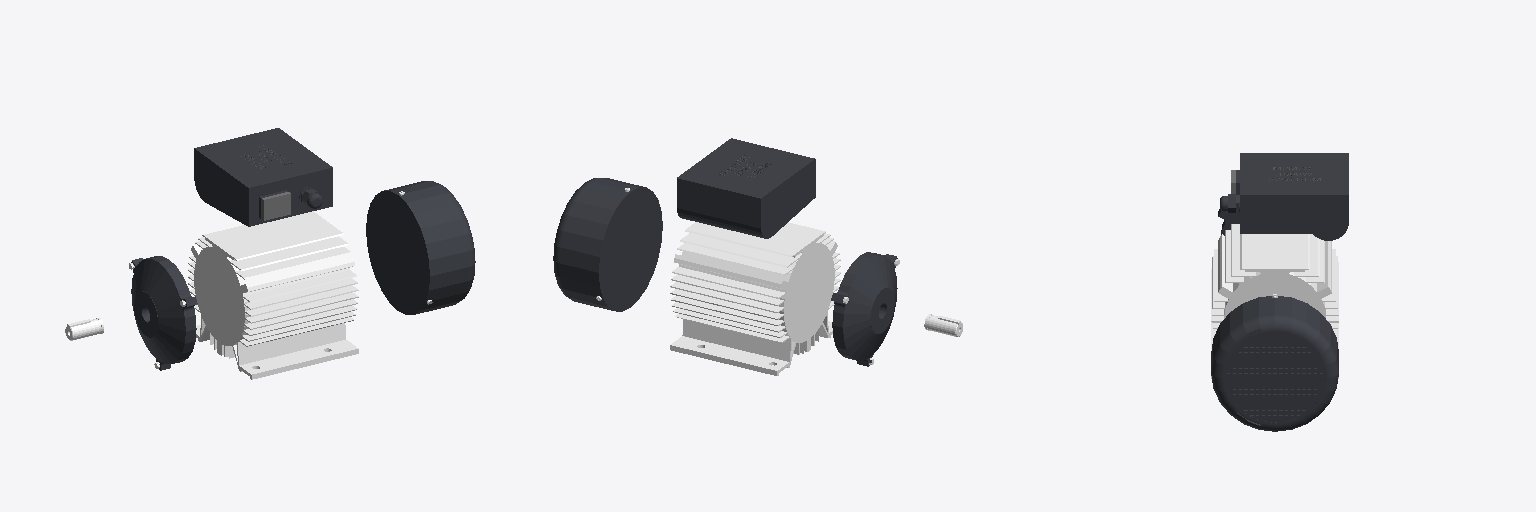
File: asenkronsplit.obj
The picture shows the model from 3 angles: view 1: azimuth 30°, elevation 25°; view 2: azimuth 150°, elevation 25°; view 3: azimuth 270°, elevation 25°; orthographic projection.
Parts seen in each view (by area): view 1: Mesh67 Mesh6 generatorsplit_obj Model, Mesh23 Mesh2 generatorsplit_obj Model, Mesh78 Mesh7 generatorsplit_obj Model, Mesh56 Mesh5 generatorsplit_obj Model, Mesh89 Mesh8 generatorsplit_obj Model; view 2: Mesh67 Mesh6 generatorsplit_obj Model, Mesh23 Mesh2 generatorsplit_obj Model, Mesh78 Mesh7 generatorsplit_obj Model, Mesh56 Mesh5 generatorsplit_obj Model, Mesh89 Mesh8 generatorsplit_obj Model; view 3: Mesh23 Mesh2 generatorsplit_obj Model, Mesh78 Mesh7 generatorsplit_obj Model, Mesh67 Mesh6 generatorsplit_obj Model.
Part boxes in pixels (bbox=[...]): Mesh67 Mesh6 generatorsplit_obj Model: bbox=[188, 211, 358, 379]; Mesh23 Mesh2 generatorsplit_obj Model: bbox=[366, 181, 475, 314]; Mesh78 Mesh7 generatorsplit_obj Model: bbox=[194, 128, 332, 226]; Mesh56 Mesh5 generatorsplit_obj Model: bbox=[129, 256, 197, 370]; Mesh89 Mesh8 generatorsplit_obj Model: bbox=[65, 318, 103, 340]; Mesh67 Mesh6 generatorsplit_obj Model: bbox=[670, 222, 840, 375]; Mesh23 Mesh2 generatorsplit_obj Model: bbox=[553, 178, 662, 311]; Mesh78 Mesh7 generatorsplit_obj Model: bbox=[677, 138, 815, 238]; Mesh56 Mesh5 generatorsplit_obj Model: bbox=[831, 252, 899, 366]; Mesh89 Mesh8 generatorsplit_obj Model: bbox=[924, 314, 962, 336]; Mesh23 Mesh2 generatorsplit_obj Model: bbox=[1211, 296, 1338, 431]; Mesh78 Mesh7 generatorsplit_obj Model: bbox=[1220, 153, 1348, 240]; Mesh67 Mesh6 generatorsplit_obj Model: bbox=[1211, 224, 1338, 378].
Bounding box in the file's own units: 530 × 238 × 167.